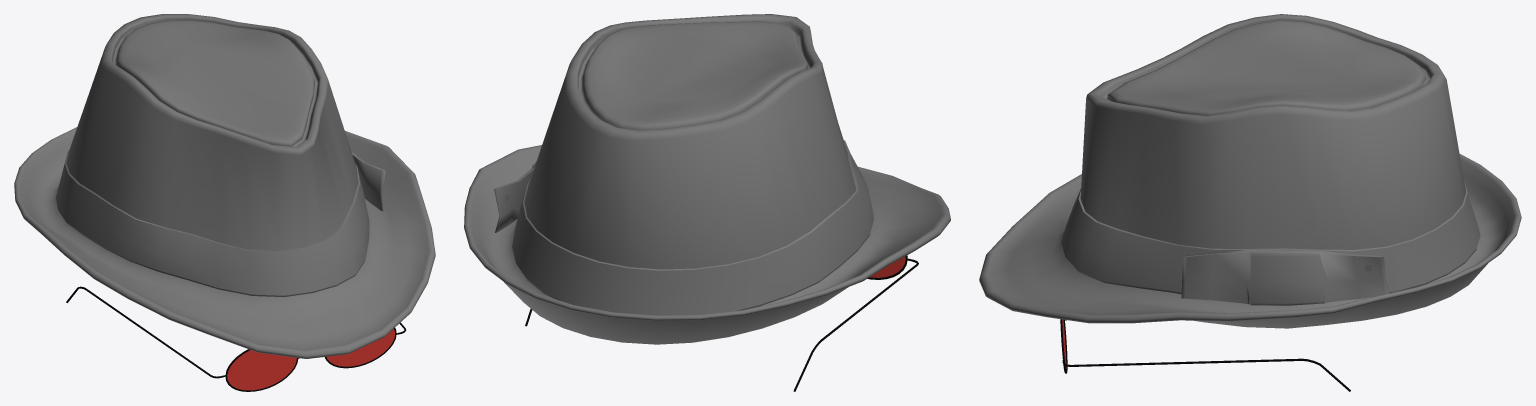
Rendered from Redditor.fbx.
3 renders of one model, left to right at view 1: azimuth 30°, elevation 25°; view 2: azimuth 150°, elevation 25°; view 3: azimuth 270°, elevation 25°, orthographic. The views are drawn at different scales.
Parts seen in each view (by area): view 1: Fedoral, Zesty Swag Shades; view 2: Fedoral, Zesty Swag Shades; view 3: Fedoral, Zesty Swag Shades.
Boxes of the visible parts, bbox=[...] form: Fedoral: bbox=[14, 14, 435, 358]; Zesty Swag Shades: bbox=[66, 286, 406, 391]; Fedoral: bbox=[464, 14, 950, 344]; Zesty Swag Shades: bbox=[525, 255, 918, 391]; Fedoral: bbox=[979, 14, 1521, 328]; Zesty Swag Shades: bbox=[1060, 319, 1350, 391].
Size of the model in its own units: 250 by 170 by 298.
